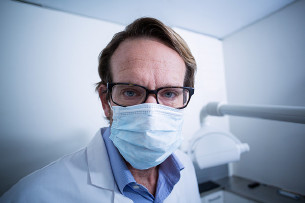face_mask: (105, 53, 186, 168)
